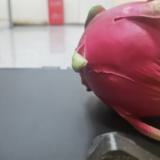pitaya: (73, 1, 160, 141)
